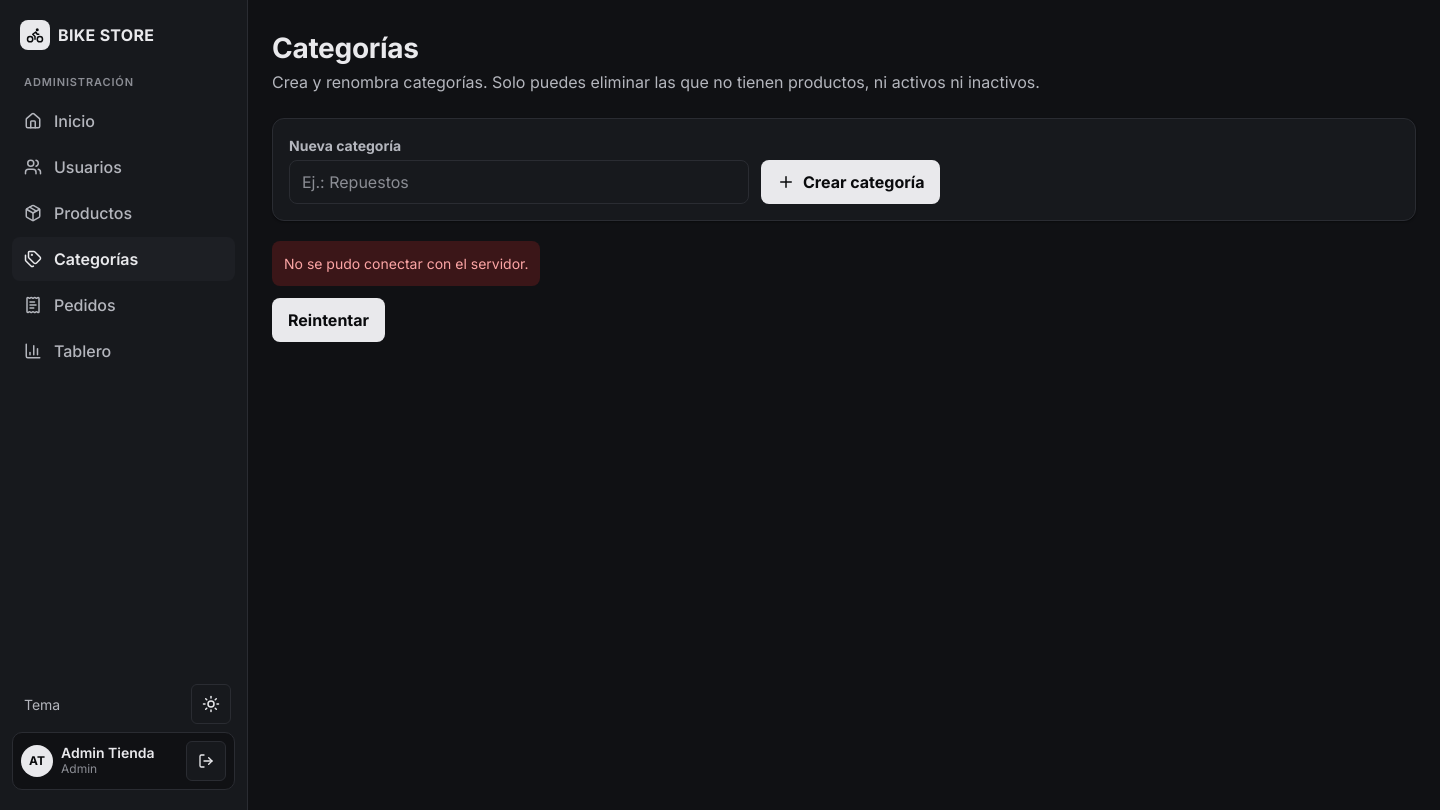
Scenario: Acceso y listado › si la carga falla, permite reintentar
The width and height of the screenshot is (1440, 810).
Expected: the message reads "No se pudo conectar con el servidor.", top-left (284, 255), bottom-right (528, 272)
Click the button "Reintentar".
click(329, 320)  # box top-left (272, 298), bottom-right (385, 342)
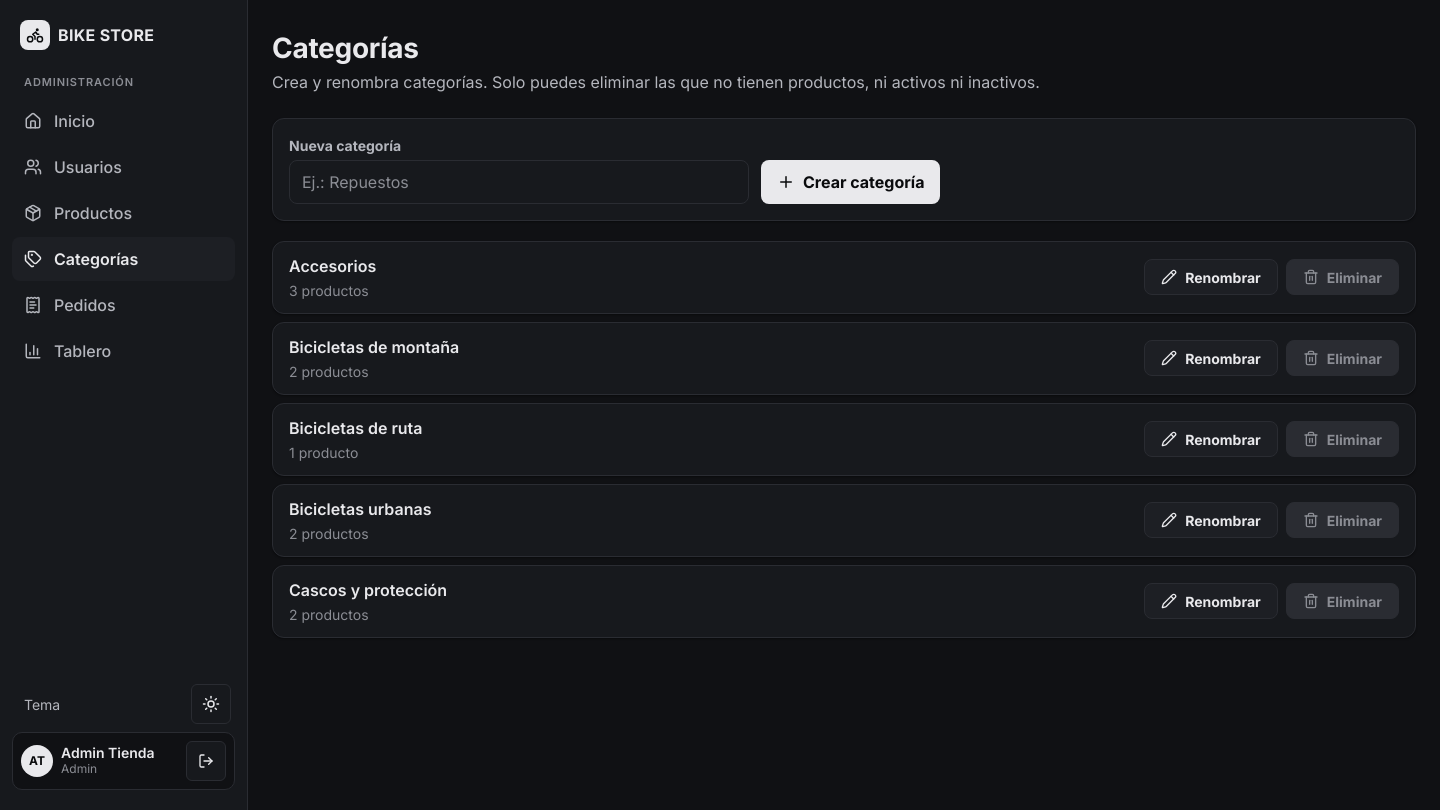
Now the list named "Categorías" is shown, box top-left (272, 241), bottom-right (1416, 638)
